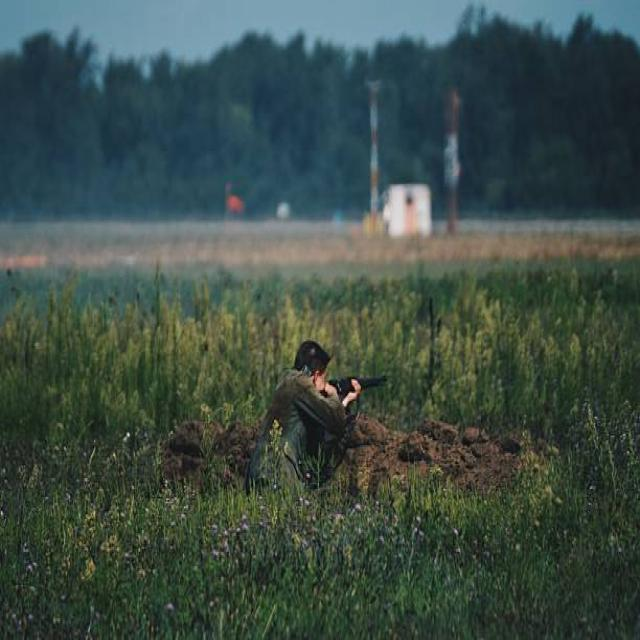soldier: (257, 328, 393, 552)
